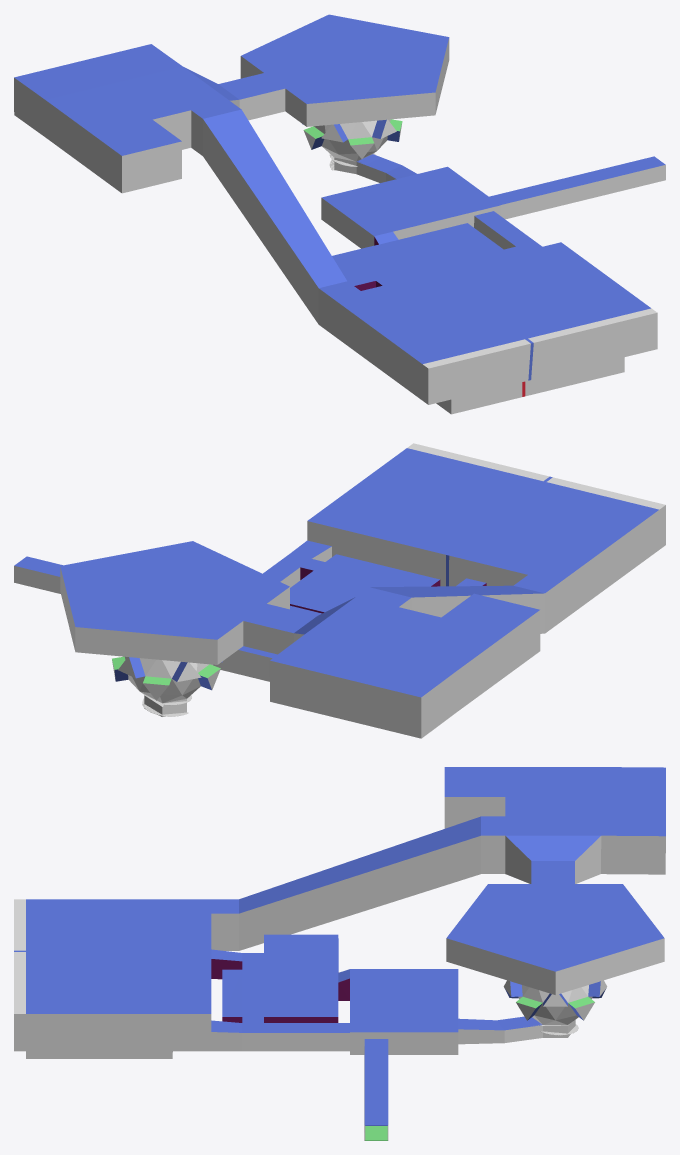
File: IcoverseGravity.fbx
3 views of the same model, one above another, from view 1: azimuth 30°, elevation 25°; view 2: azimuth 150°, elevation 25°; view 3: azimuth 270°, elevation 25° (orthographic). The views are drawn at different scales.
Visible parts, largest first — view 1: IcoverseIcosphere; view 2: IcoverseIcosphere; view 3: IcoverseIcosphere.
Part boxes in pixels (left/top/right/bottom): IcoverseIcosphere: left=14, top=14, right=665, bottom=414; IcoverseIcosphere: left=14, top=443, right=665, bottom=738; IcoverseIcosphere: left=14, top=767, right=665, bottom=1140.
Size of the model in its own units: 73835 by 19488 by 80610.
